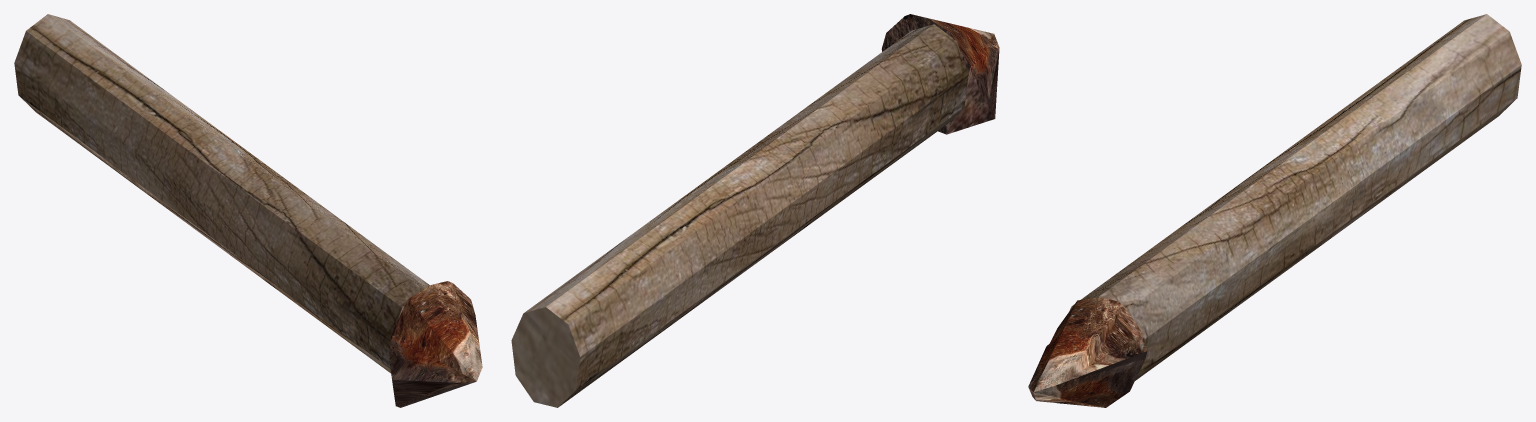
The model's file is projectile-spear.fbx.
3 views of the same model, side by side, from view 1: azimuth 30°, elevation 25°; view 2: azimuth 150°, elevation 25°; view 3: azimuth 330°, elevation 25° (orthographic). The views are drawn at different scales.
Visible parts, largest first — view 1: projectile-spear; view 2: projectile-spear; view 3: projectile-spear.
Boxes of the visible parts, x1,y1,x2,y2 form: projectile-spear: [14, 14, 482, 407]; projectile-spear: [511, 14, 999, 407]; projectile-spear: [1028, 14, 1521, 407].
Bounding box in the file's own units: 19.16 × 20.98 × 151.
